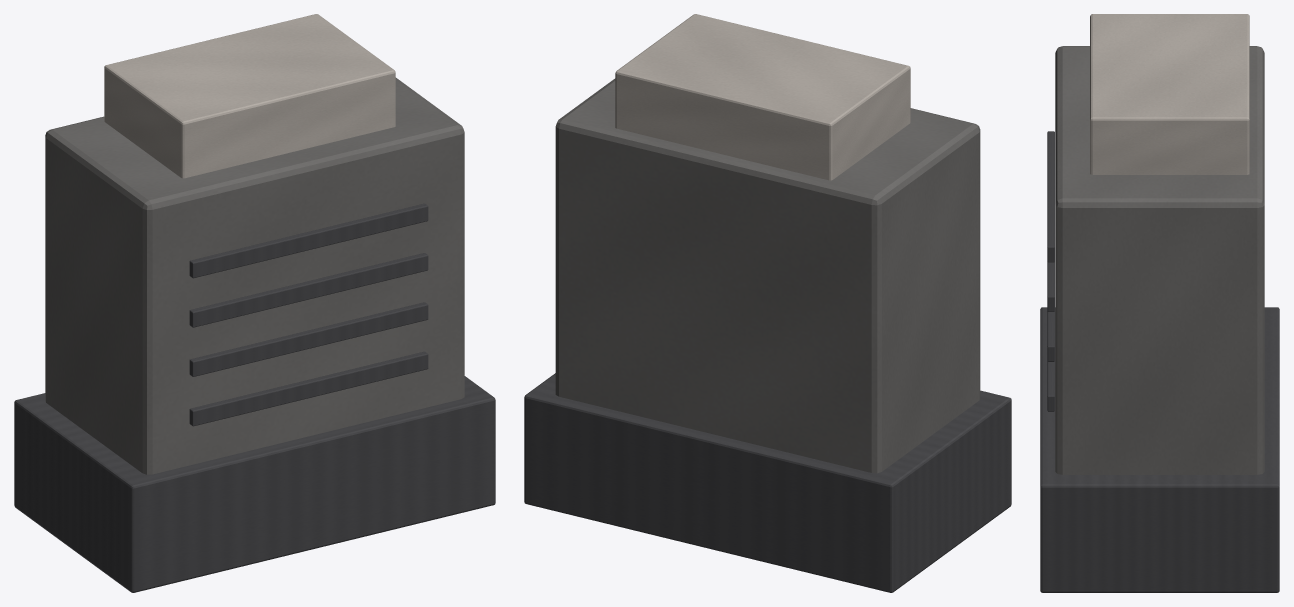
The model's file is compressor_unit.glb.
3 renders of one model, left to right at view 1: azimuth 30°, elevation 25°; view 2: azimuth 150°, elevation 25°; view 3: azimuth 270°, elevation 25°, orthographic.
Parts seen in each view (by area): view 1: compressor_body, base.006, motor_housing, vent.004, vent.006, vent.007, vent.005; view 2: compressor_body, base.006, motor_housing; view 3: compressor_body, base.006, motor_housing, vent.007, vent.005, vent.004, vent.006.
Part boxes in pixels (bbox=[...]): compressor_body: bbox=[45, 77, 464, 474]; base.006: bbox=[14, 376, 495, 592]; motor_housing: bbox=[104, 14, 395, 178]; vent.004: bbox=[189, 351, 428, 426]; vent.006: bbox=[189, 253, 428, 327]; vent.007: bbox=[189, 203, 428, 278]; vent.005: bbox=[189, 302, 428, 376]; compressor_body: bbox=[555, 78, 980, 473]; base.006: bbox=[524, 373, 1011, 592]; motor_housing: bbox=[615, 14, 910, 180]; compressor_body: bbox=[1055, 46, 1264, 474]; base.006: bbox=[1040, 307, 1279, 592]; motor_housing: bbox=[1090, 14, 1249, 174]; vent.007: bbox=[1047, 131, 1054, 262]; vent.005: bbox=[1047, 311, 1054, 361]; vent.004: bbox=[1047, 361, 1054, 411]; vent.006: bbox=[1047, 261, 1054, 311].
Bounding box in the file's own units: 0.85 × 0.97 × 0.48.
Materials: 3 (3 with a texture image).
